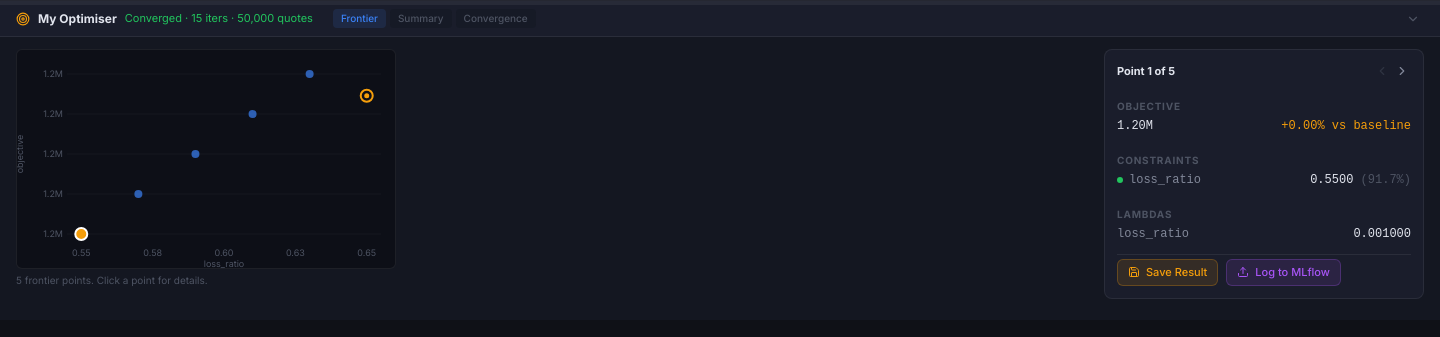
it: OptimiserPreview › save and log failure messages › shows error text when save fails
Click the button "Save Result".
click(1168, 272)  # box [1117,259,1218,286]
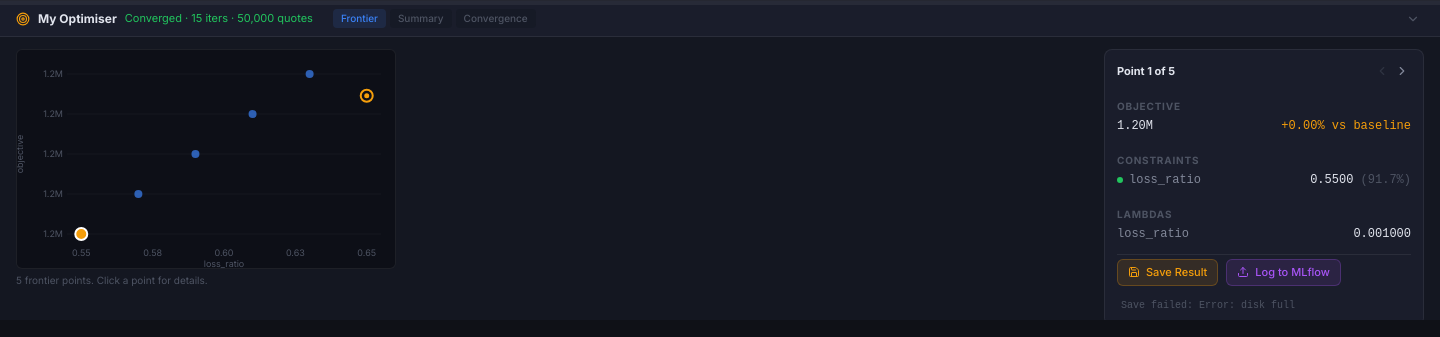
expect the text "Save failed: Error: disk full" is shown: met, box [1121,300,1295,310]
